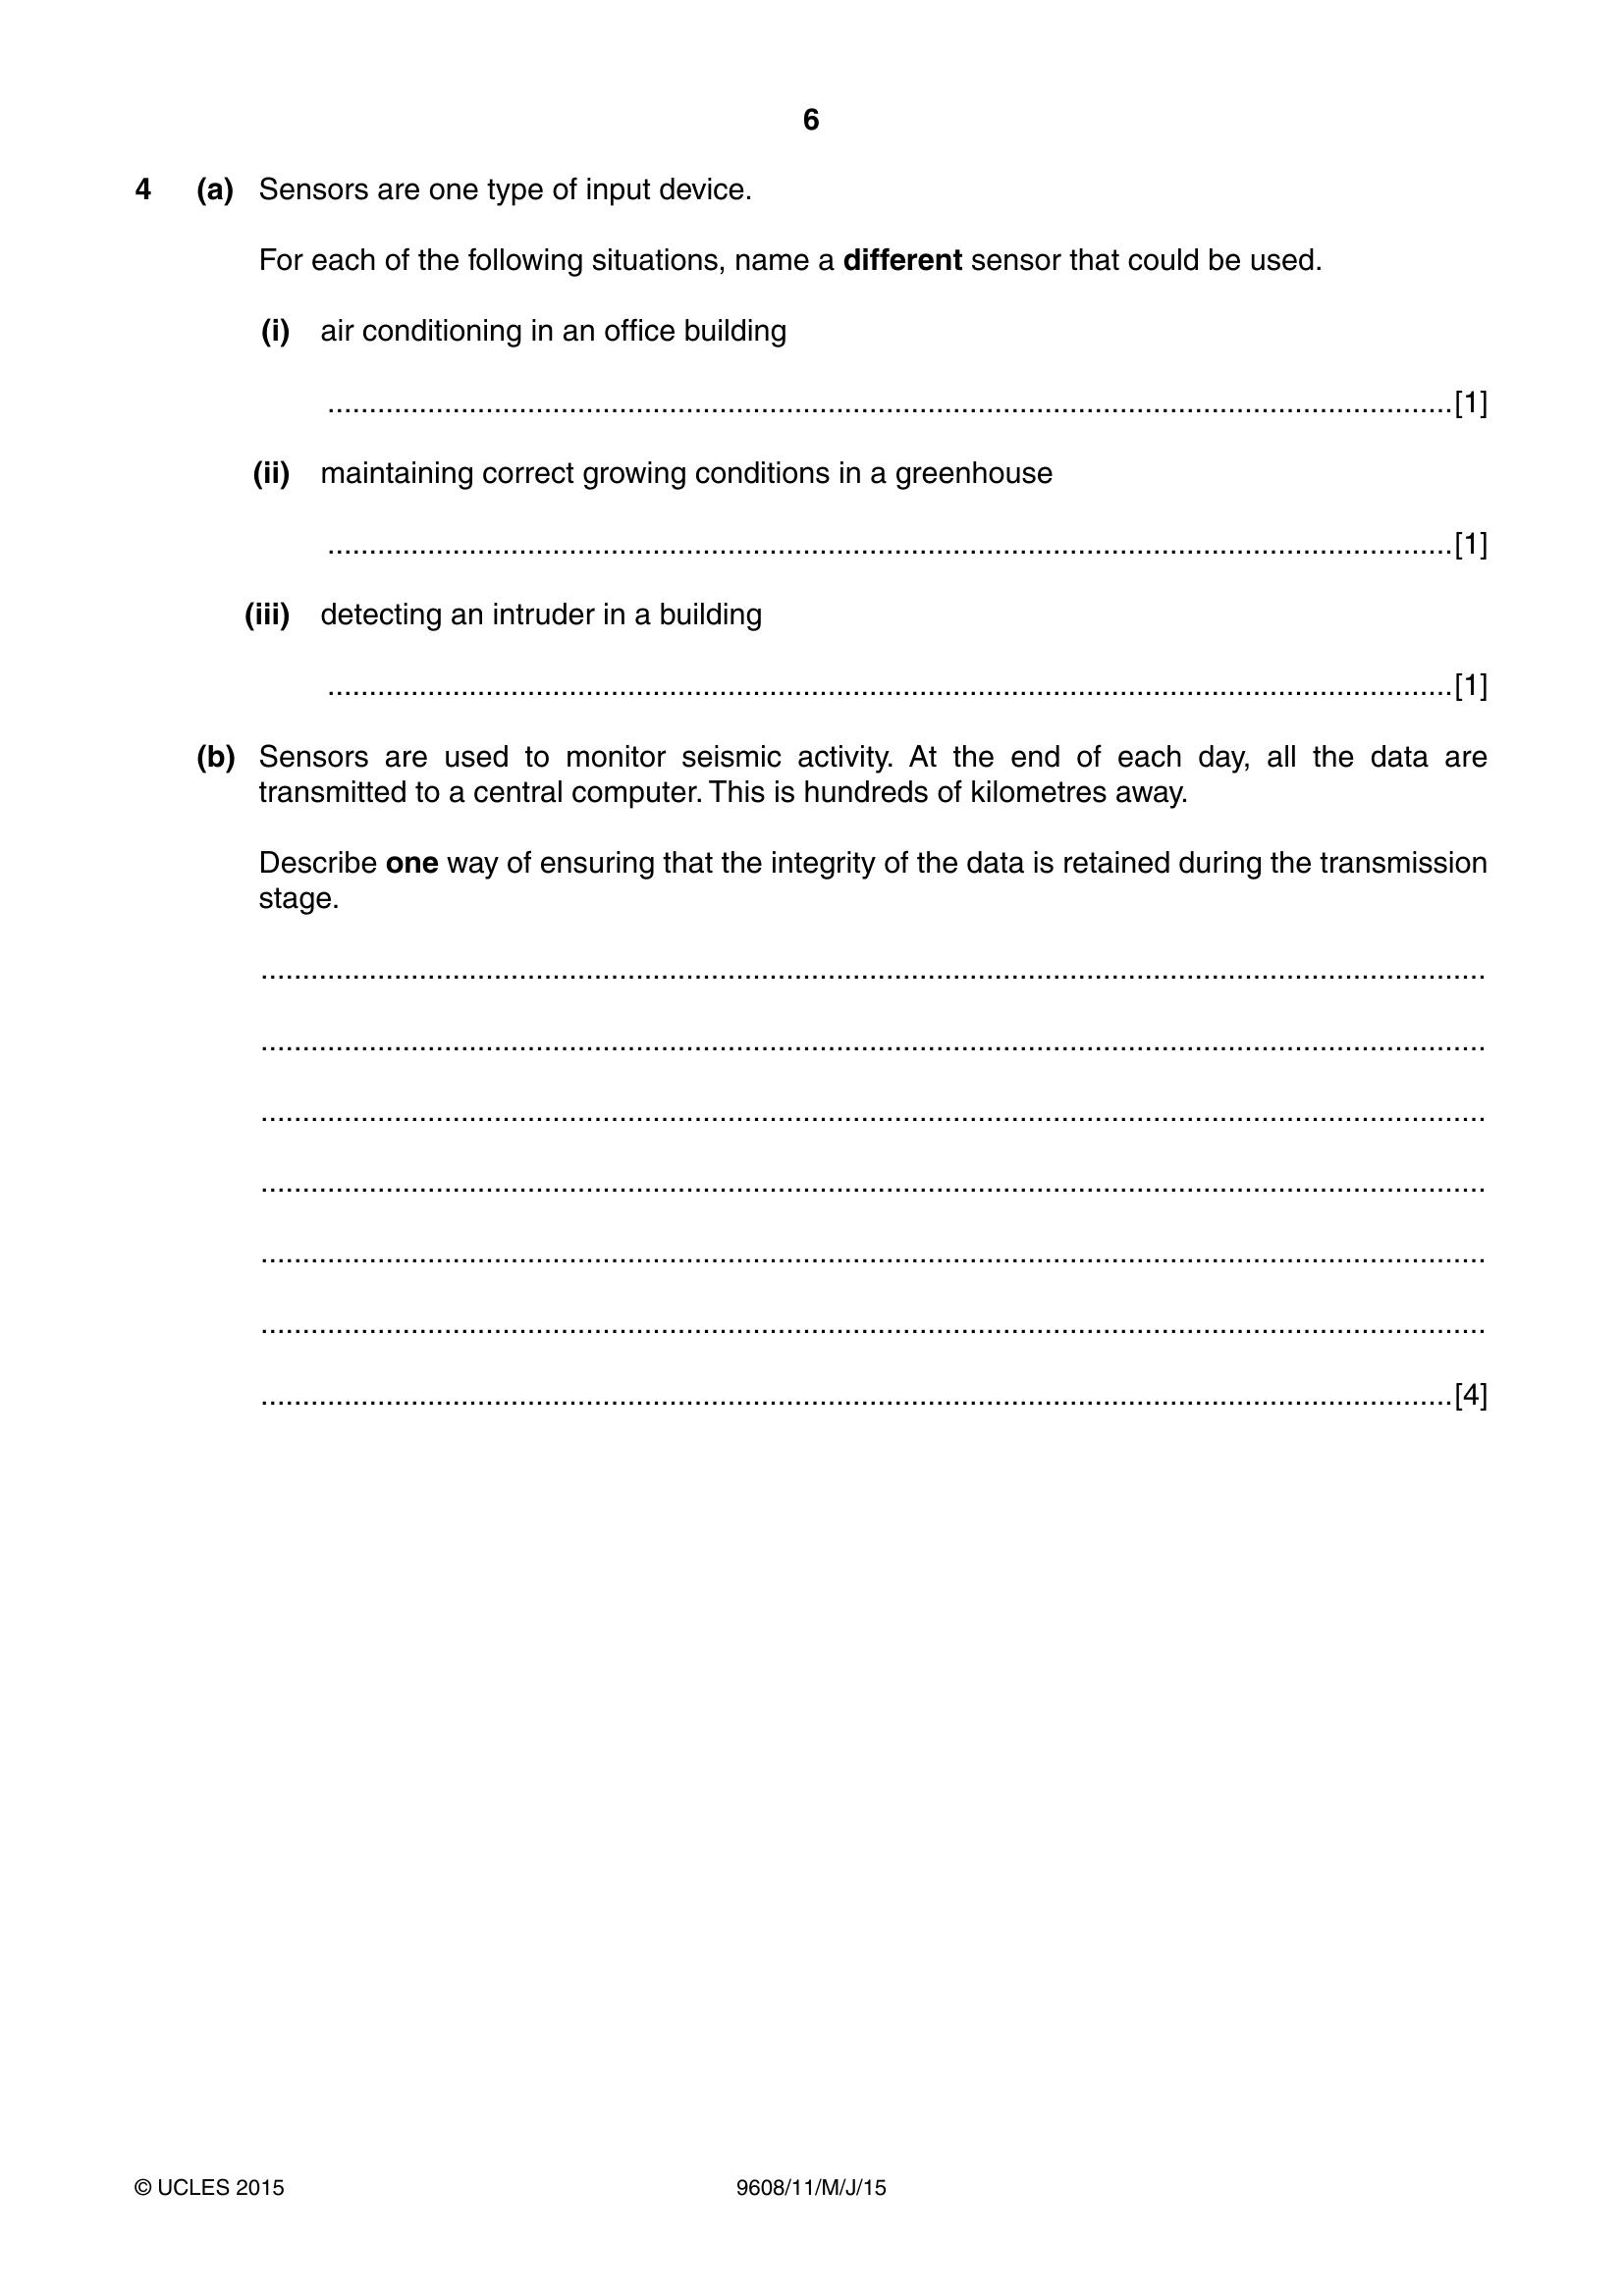question: (2, 155, 1624, 1481)
